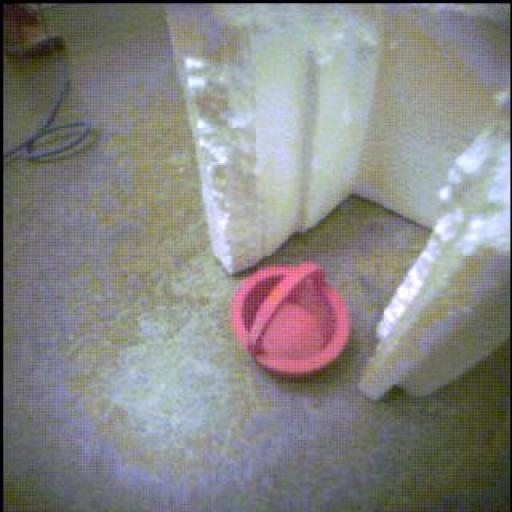Bucket: (233, 263, 351, 377)
